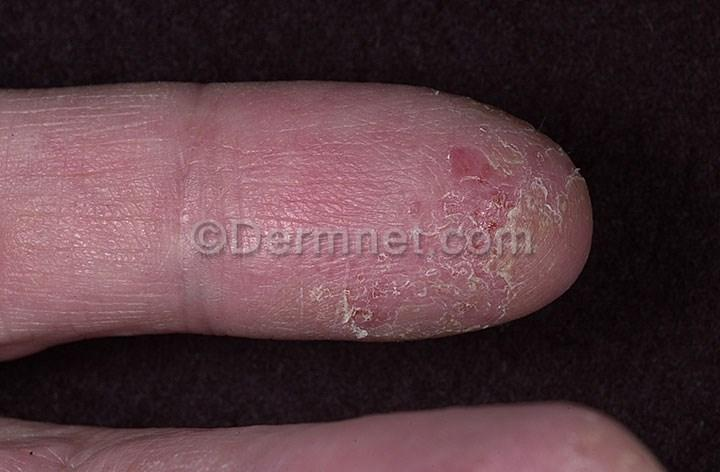Eczema: (321, 87, 393, 168), (281, 172, 387, 222), (264, 87, 322, 176), (203, 174, 277, 235), (202, 98, 262, 170), (219, 235, 291, 288), (405, 227, 456, 292), (387, 171, 433, 226), (397, 128, 453, 168), (484, 231, 528, 281), (484, 170, 526, 222), (529, 173, 569, 226), (331, 297, 379, 341), (222, 300, 282, 335), (447, 218, 484, 268), (435, 186, 487, 221), (377, 293, 417, 338), (394, 88, 444, 124), (457, 272, 492, 322), (386, 252, 427, 291), (418, 289, 454, 333), (471, 112, 511, 150), (452, 151, 486, 194), (340, 260, 384, 293), (286, 296, 331, 328), (528, 229, 565, 267), (342, 230, 394, 256), (551, 164, 584, 202), (296, 264, 337, 292), (298, 237, 339, 264), (519, 132, 549, 168), (495, 285, 518, 326), (444, 96, 474, 120)
